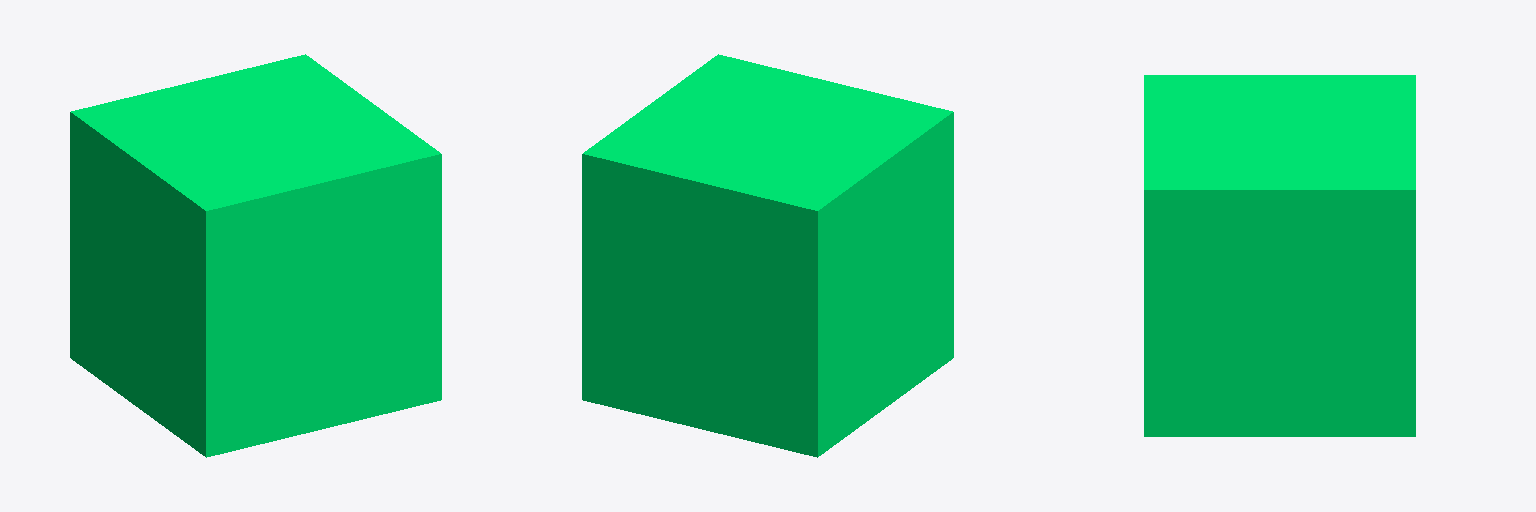
3 views of the same model, side by side, from view 1: azimuth 30°, elevation 25°; view 2: azimuth 150°, elevation 25°; view 3: azimuth 270°, elevation 25° (orthographic).
Parts seen in each view (by area): view 1: Cube.001; view 2: Cube.001; view 3: Cube.001.
Part boxes in pixels (x1,y1,x2,y2): Cube.001: (70, 54, 441, 457); Cube.001: (582, 54, 953, 457); Cube.001: (1144, 75, 1415, 436).
Size of the model in its own units: 2 by 2 by 2.
Materials: 1 (1 with a texture image).